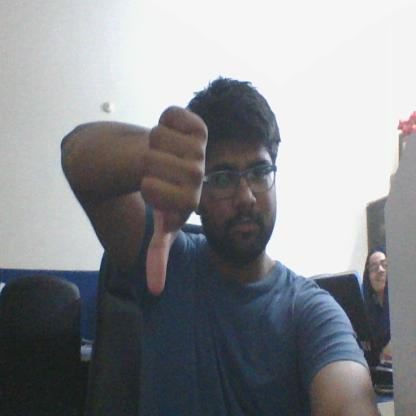thumbs-down: (142, 106, 211, 300)
